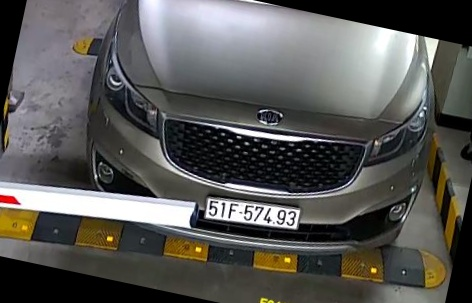plate: (201, 190, 304, 234)
